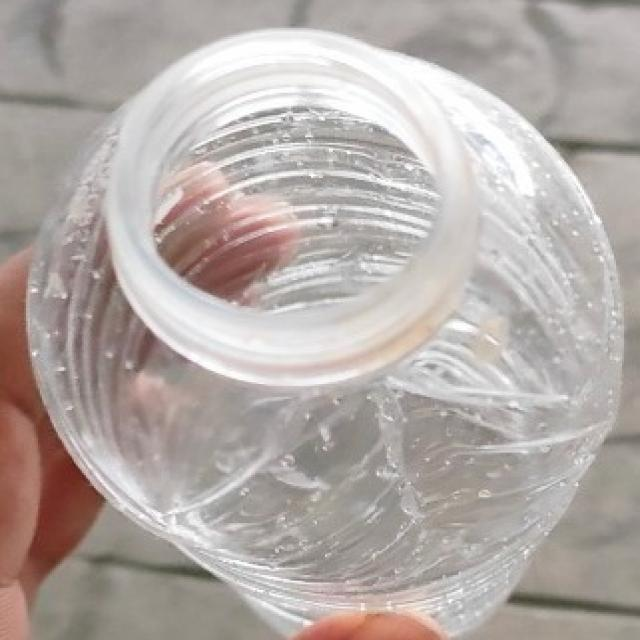plastic_bottle: (26, 27, 624, 640)
